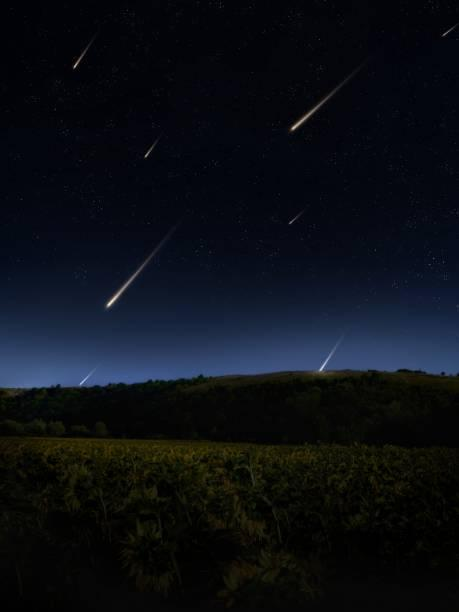meteor: (102, 294, 122, 316), (285, 116, 305, 136), (313, 356, 331, 376), (71, 381, 90, 394), (71, 59, 89, 70), (144, 151, 159, 161), (289, 214, 301, 226), (439, 32, 449, 42)
